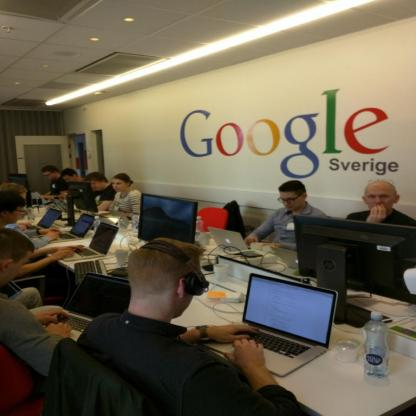board: (205, 272, 339, 376), (48, 271, 132, 341), (65, 222, 119, 261), (364, 312, 388, 380), (41, 214, 94, 242), (209, 229, 250, 250), (28, 208, 63, 230), (270, 247, 298, 270), (109, 210, 129, 225)
